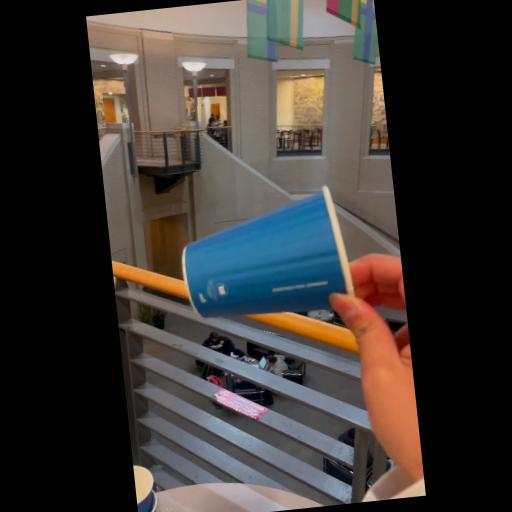lp_paper_cup: (168, 182, 358, 332)
